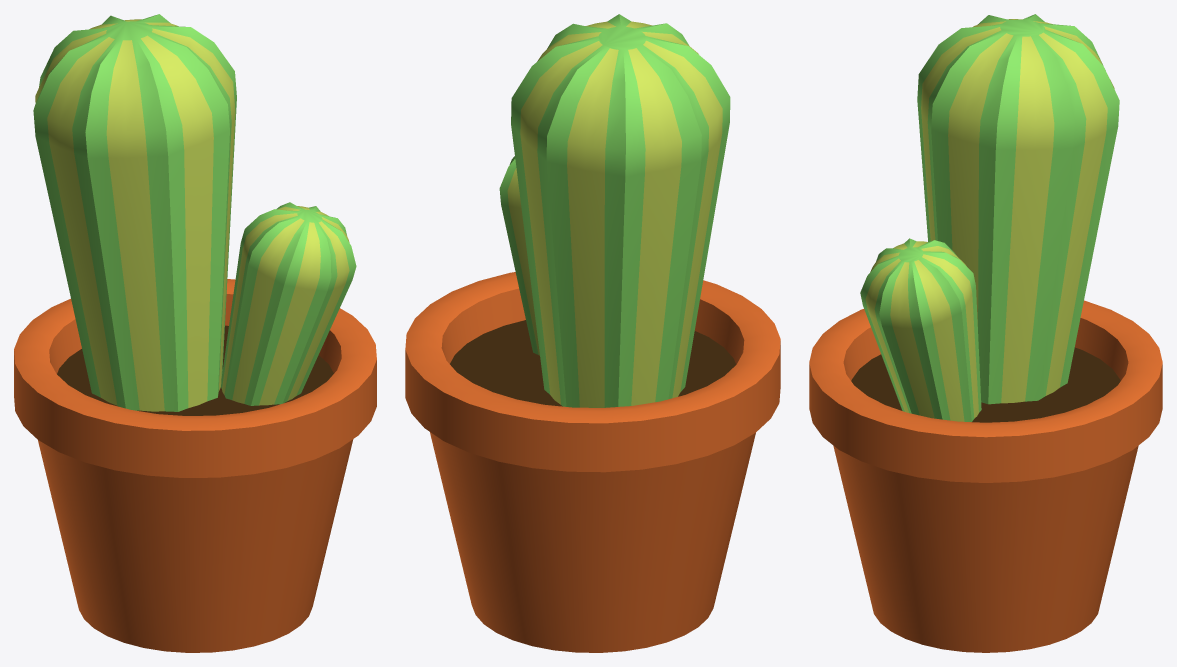
Rendered from cactus.fbx.
3 views of the same model, side by side, from view 1: azimuth 30°, elevation 25°; view 2: azimuth 150°, elevation 25°; view 3: azimuth 270°, elevation 25° (orthographic). The views are drawn at different scales.
Parts seen in each view (by area): view 1: Cactus; view 2: Cactus; view 3: Cactus.
Part boxes in pixels (x1,y1,x2,y2): Cactus: (14, 14, 376, 652); Cactus: (405, 14, 780, 652); Cactus: (809, 14, 1162, 652).
Bounding box in the file's own units: 10.91 × 10.91 × 18.92.
